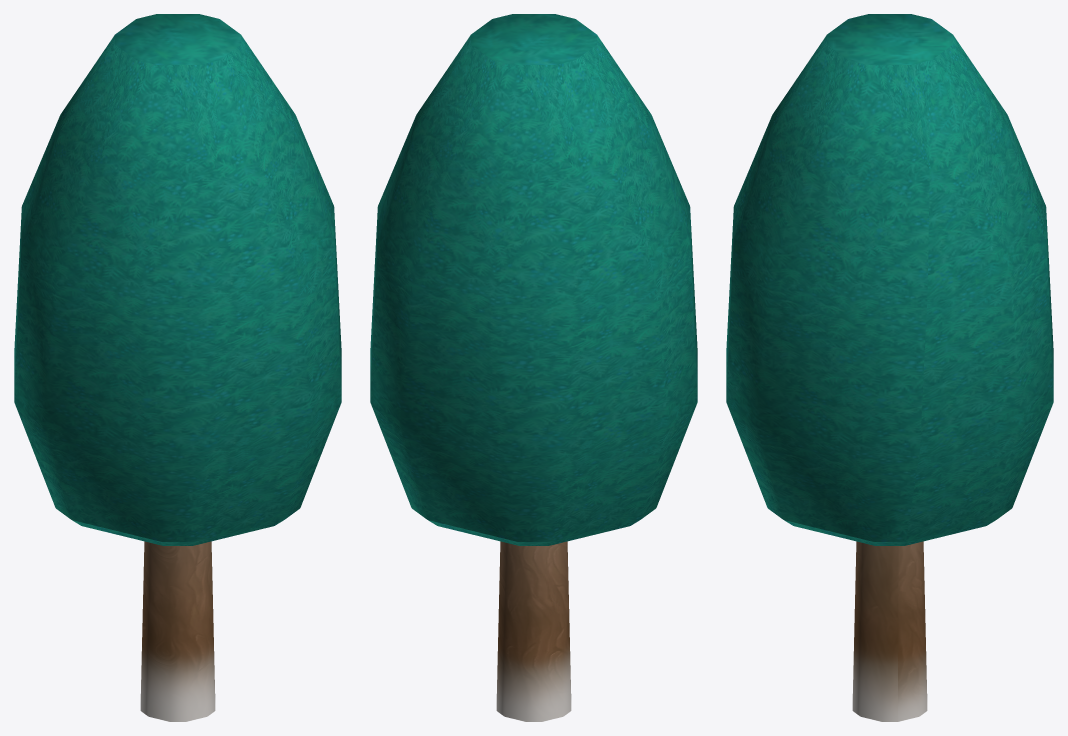
File: Tree02_M.FBX
3 views of the same model, side by side, from view 1: azimuth 30°, elevation 25°; view 2: azimuth 150°, elevation 25°; view 3: azimuth 270°, elevation 25° (orthographic).
Visible parts, largest first — view 1: Cylinder007; view 2: Cylinder007; view 3: Cylinder007.
Part boxes in pixels (x1,y1,x2,y2): Cylinder007: [14, 14, 341, 721]; Cylinder007: [370, 14, 697, 721]; Cylinder007: [726, 14, 1053, 721].
Size of the model in its own units: 129 by 277 by 123.
